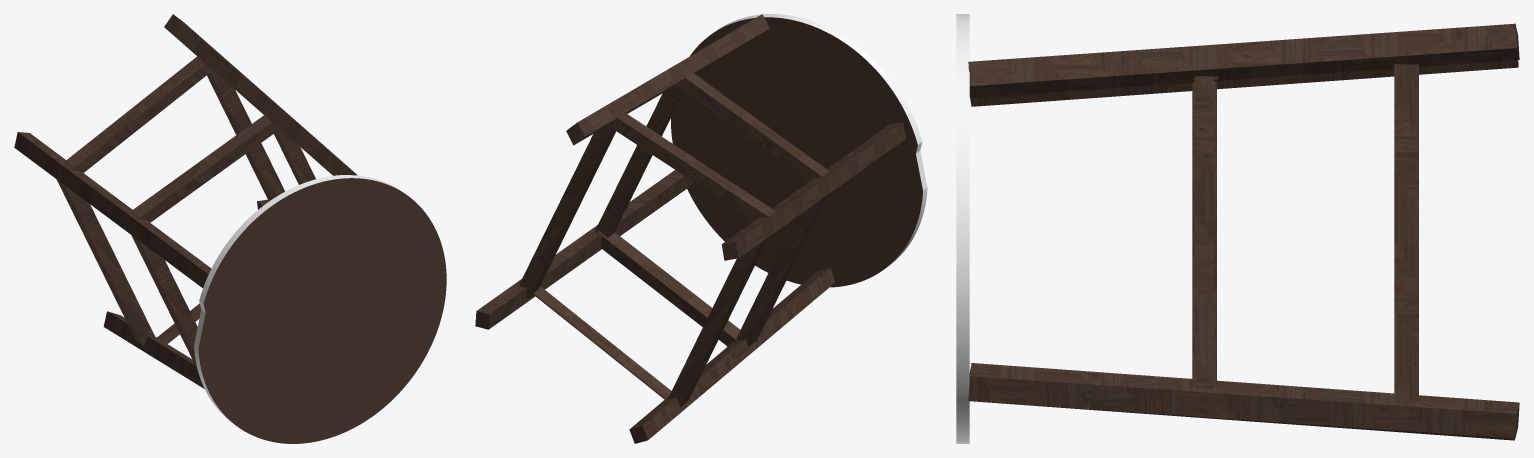
The model's file is Stool1.glb.
The picture shows the model from 3 angles, left to right: view 1: azimuth 30°, elevation 25°; view 2: azimuth 150°, elevation 25°; view 3: azimuth 270°, elevation 25°; orthographic projection. The views are drawn at different scales.
Parts seen in each view (by area): view 1: Circle.008; view 2: Circle.008; view 3: Circle.008.
Part boxes in pixels (x1,y1,x2,y2): Circle.008: [14, 14, 446, 443]; Circle.008: [475, 14, 927, 443]; Circle.008: [956, 14, 1519, 443].
Size of the model in its own units: 26.25 by 29.23 by 32.57.
Materials: 2 (1 with a texture image).
